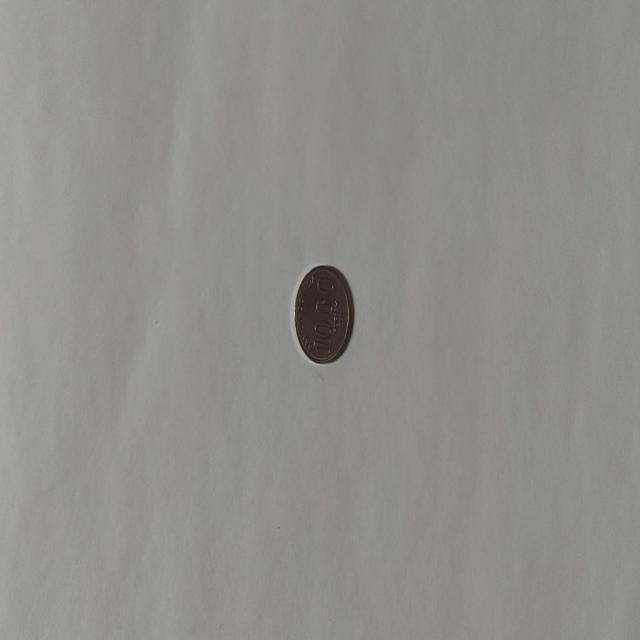seribu rupiah koin: (292, 262, 352, 366)
